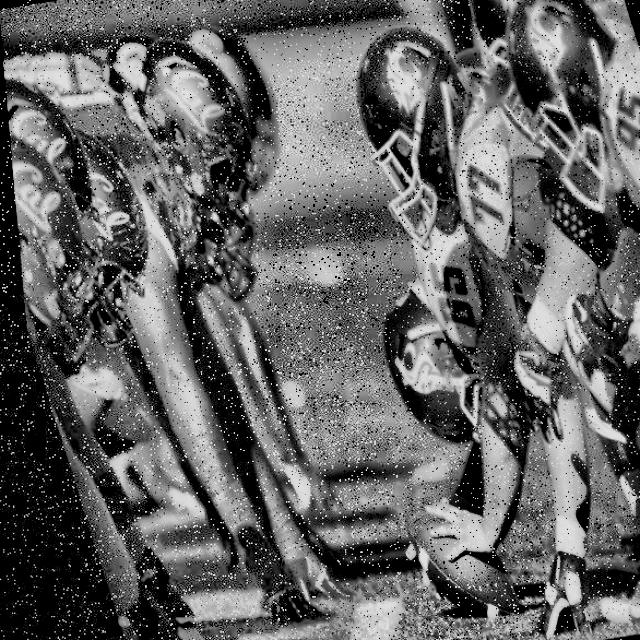Helmet: (320, 0, 522, 274), (113, 23, 287, 276), (477, 0, 640, 233), (352, 264, 516, 462), (4, 123, 115, 378)
